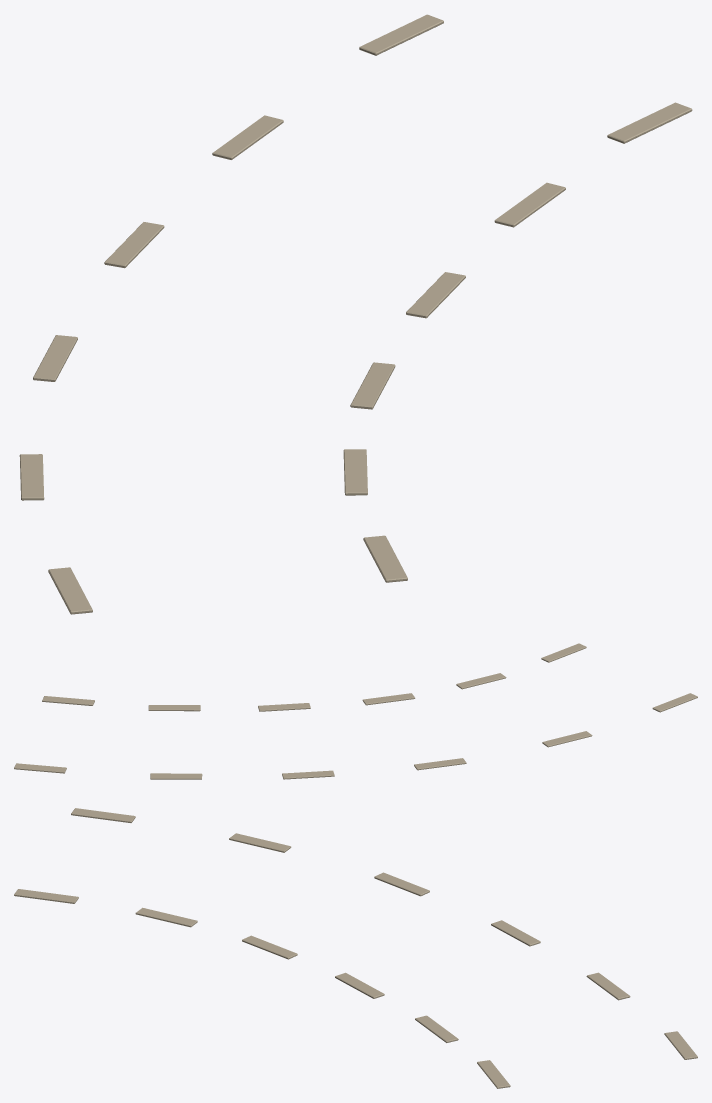
Rendered from Sector2_SandstoneTrim_1.fbx.
The picture shows the model from 3 angles, top to bottom: view 1: azimuth 30°, elevation 25°; view 2: azimuth 150°, elevation 25°; view 3: azimuth 270°, elevation 25°; orthographic projection. The views are drawn at different scales.
Visible parts, largest first — view 1: Sector2_SandstoneTrim_1; view 2: Sector2_SandstoneTrim_1; view 3: Sector2_SandstoneTrim_1.
Part boxes in pixels (box(x1,y1,x2,y2)): Sector2_SandstoneTrim_1: box(19, 14, 692, 614); Sector2_SandstoneTrim_1: box(14, 643, 697, 779); Sector2_SandstoneTrim_1: box(14, 808, 697, 1088).
Size of the model in its own units: 27502 by 581 by 27432.
